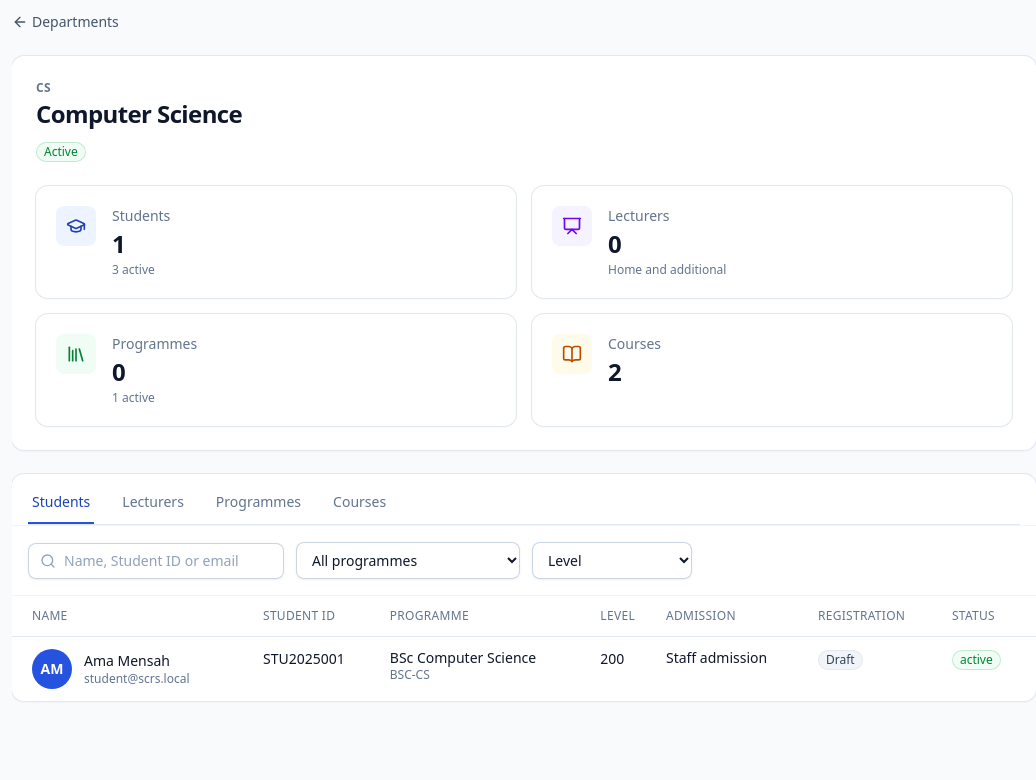
it: DepartmentDetail › switches between Students, Lecturers, Programmes and Courses
Expected: the text "STU2025001" is shown, [263,649,345,668]
Click the tab "Lecturers": (153, 503) [118,482,188,524]
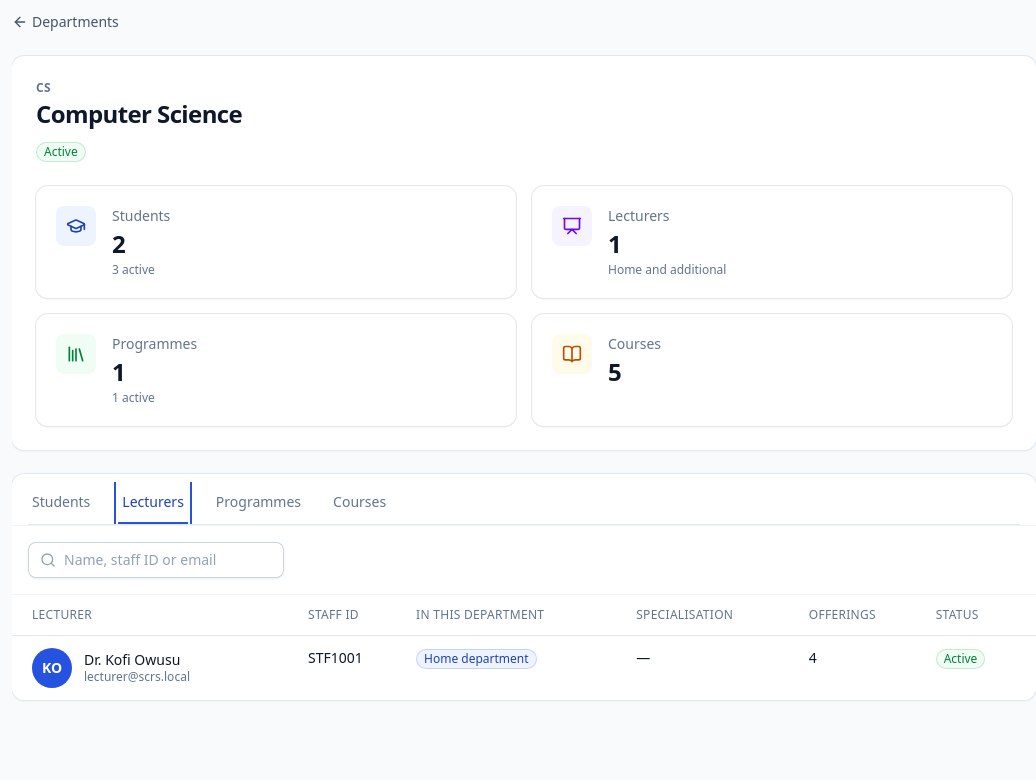
Expected: the text "STF1001" is shown, [308,648,363,667]
Expected: the text "Home department" is shown, [416,649,536,669]
Click the tab "Programmes": (258, 503) [212,482,305,524]
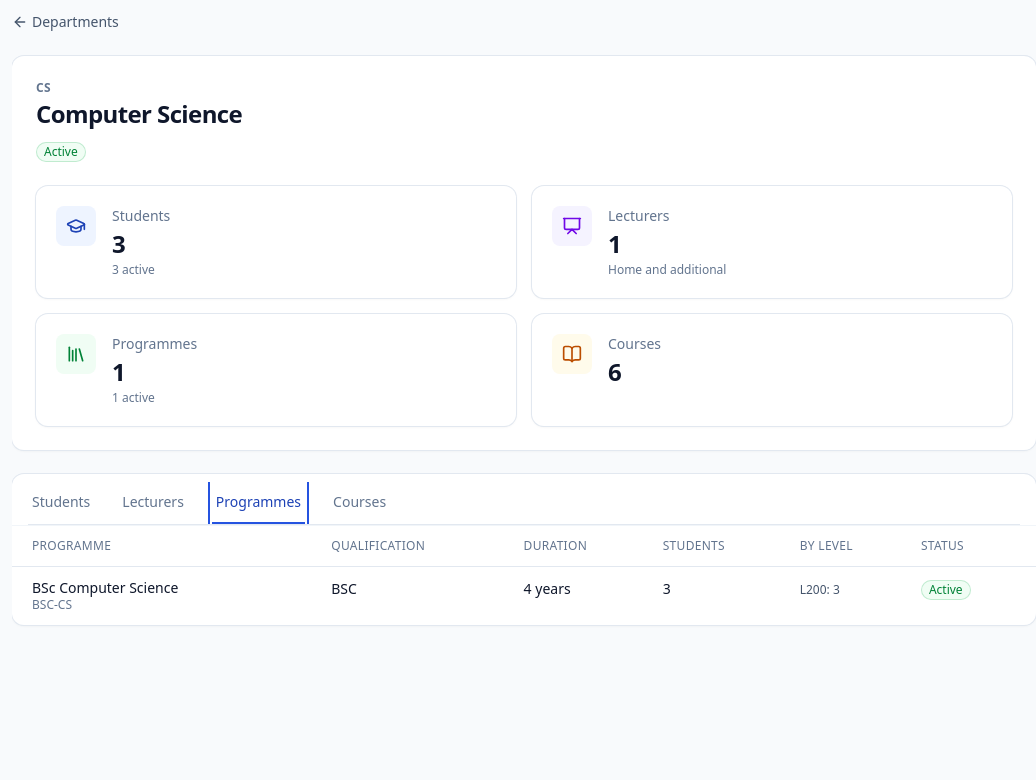
Expected: the text "L200: 3" is shown, [800,581,840,598]
Click the tab "Courses": (360, 503) [329,482,390,524]
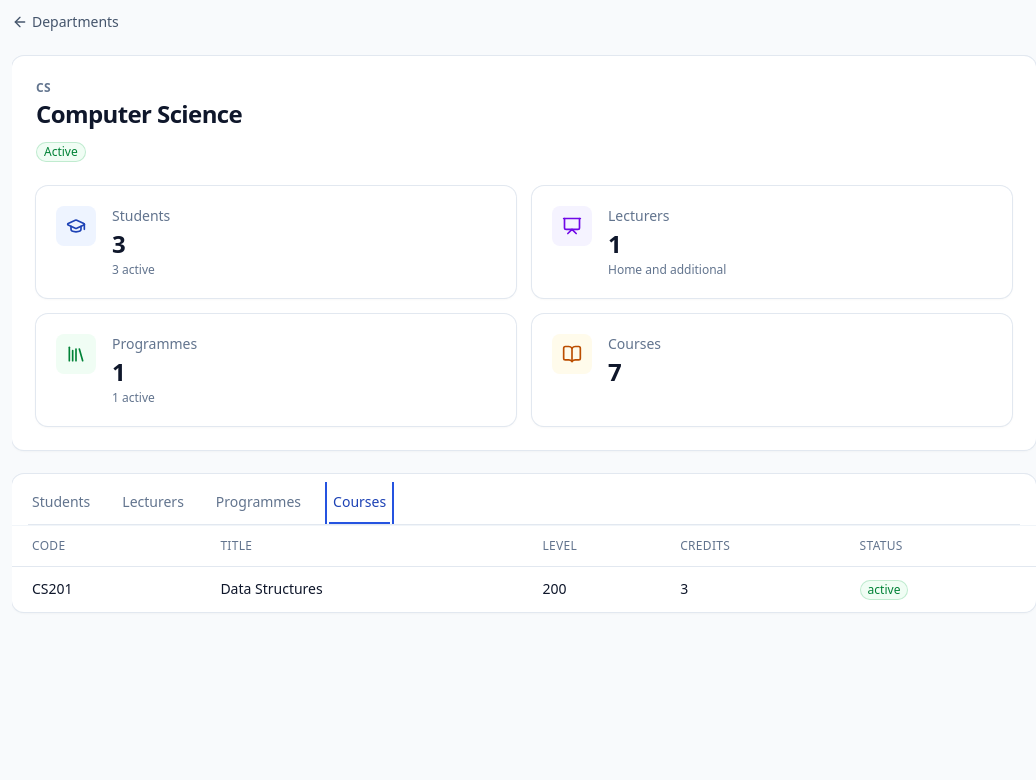
Expected: the text "CS201" is shown, [32,579,73,598]
